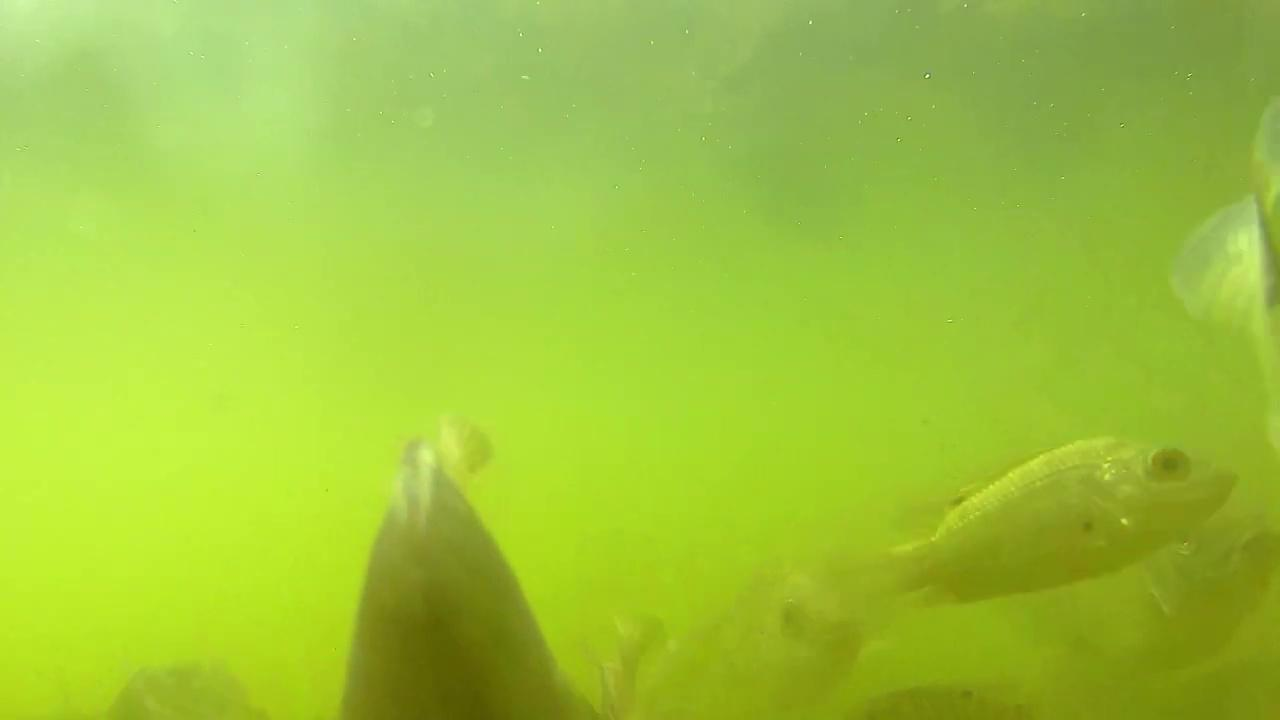Tilapia: (865, 440, 1234, 608), (689, 534, 888, 716)
